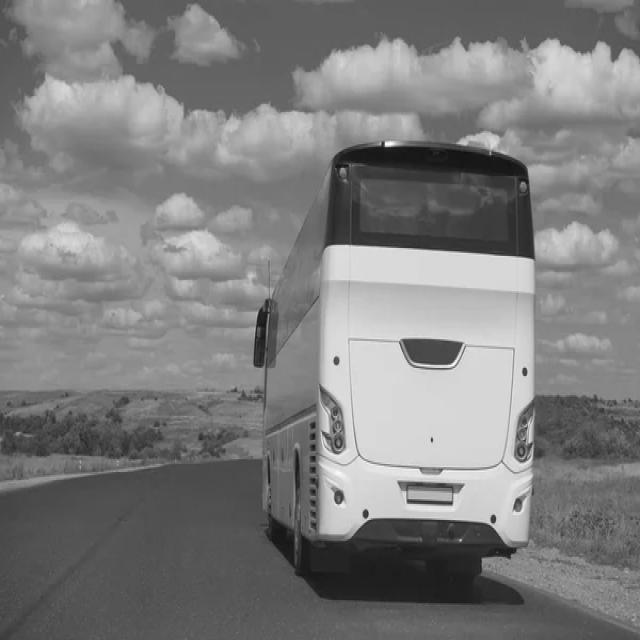Bus: (254, 141, 536, 586)
